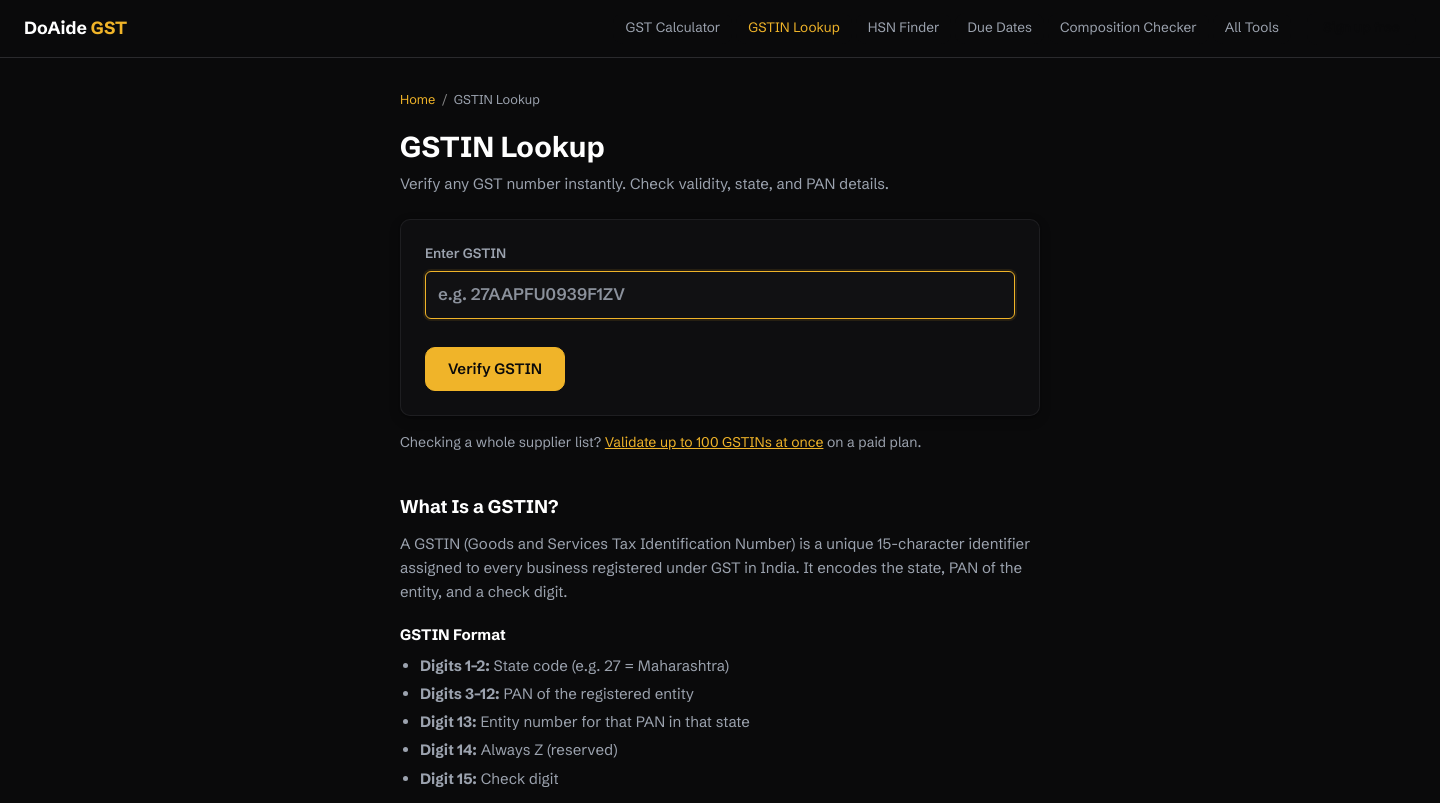
Test: LookupPage › asks for a GSTIN when Verify is pressed on an empty box
The width and height of the screenshot is (1440, 803).
Click the button "Verify GSTIN": (495, 369) [425,347,565,391]
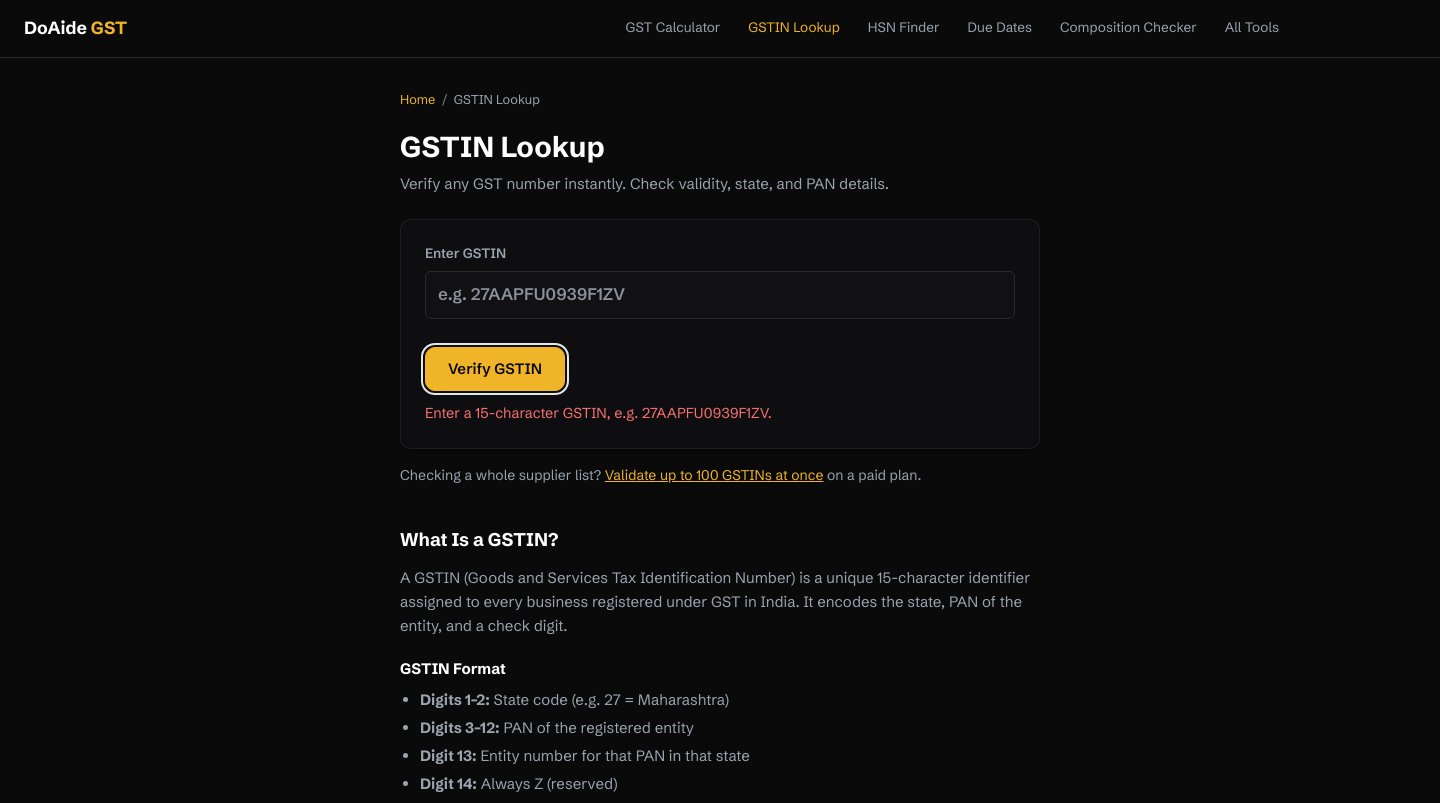
Result: the message shows "Enter a 15-character GSTIN" at [425,404,772,422]
